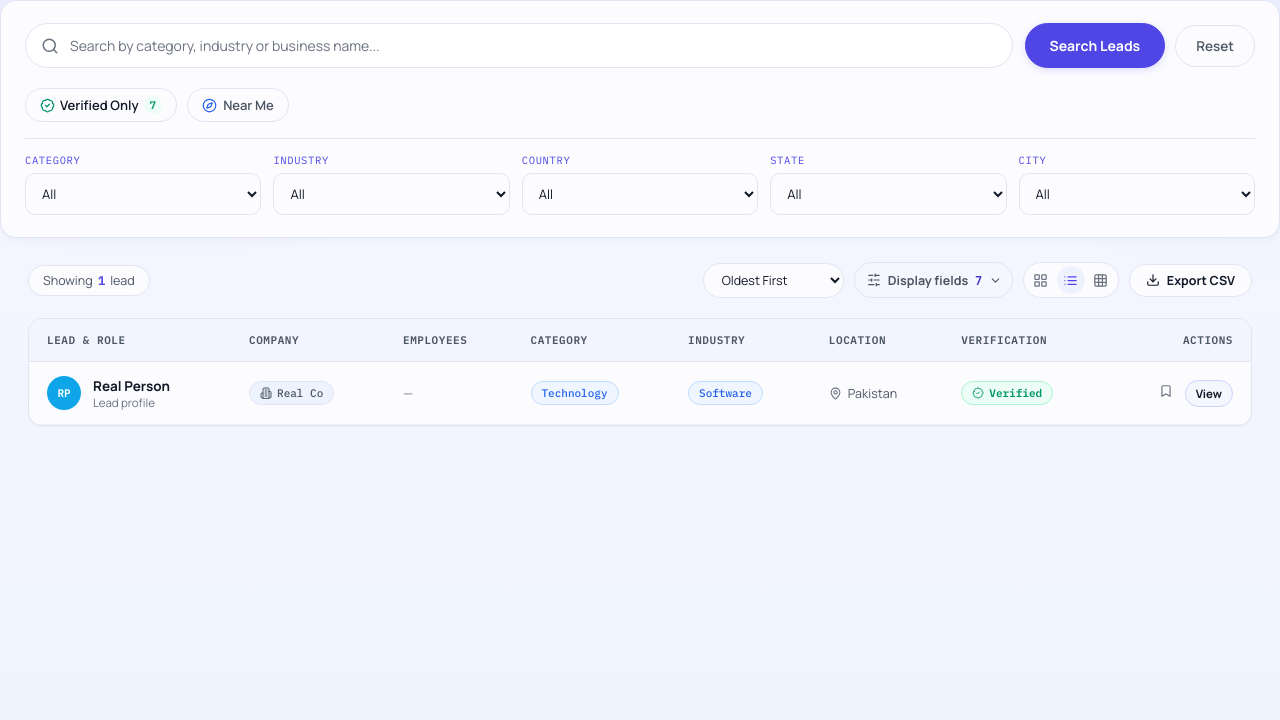
DirectoryPage filters reach the API › opens one complete lead record without previous/next navigation
Expected: the text "Real Person" is shown, [93,376,170,394]
Click the button "View".
click(1209, 393)  # box [1185,380,1233,406]
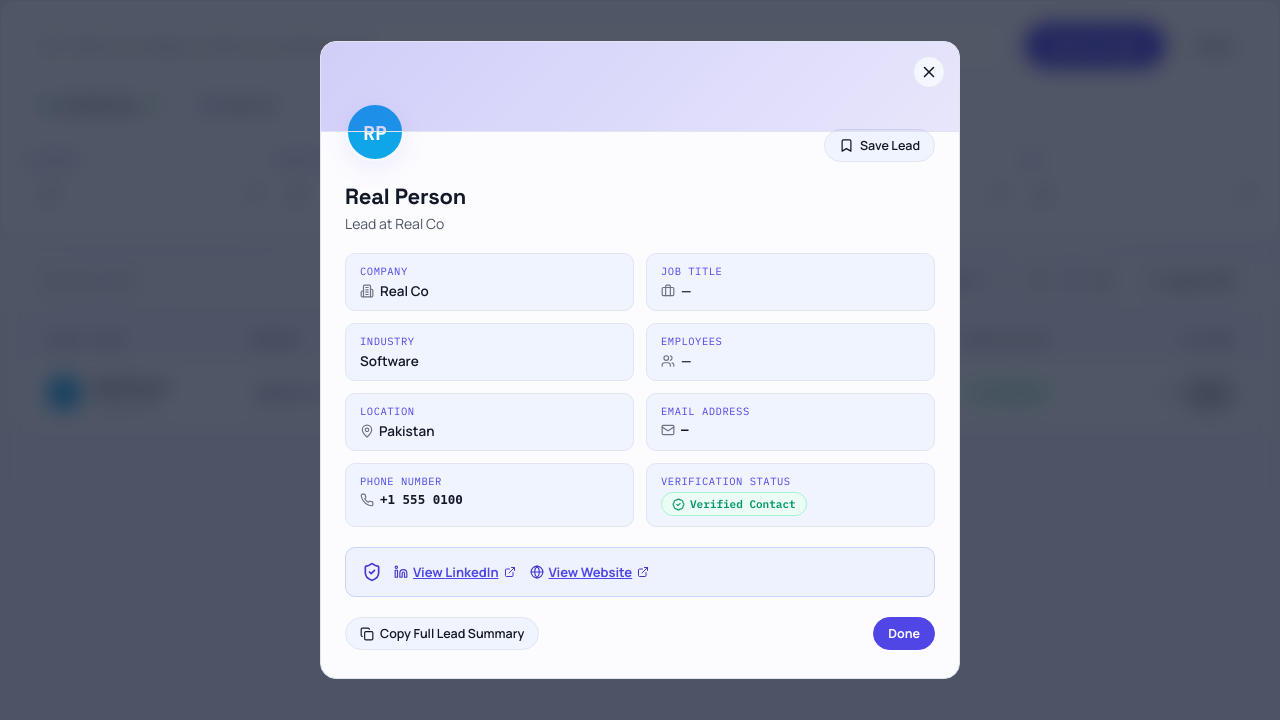
Now the text "+1 555 0100" is shown, box [380,492,463,507]
Now the link "View LinkedIn" is shown, box [394,563,516,581]
